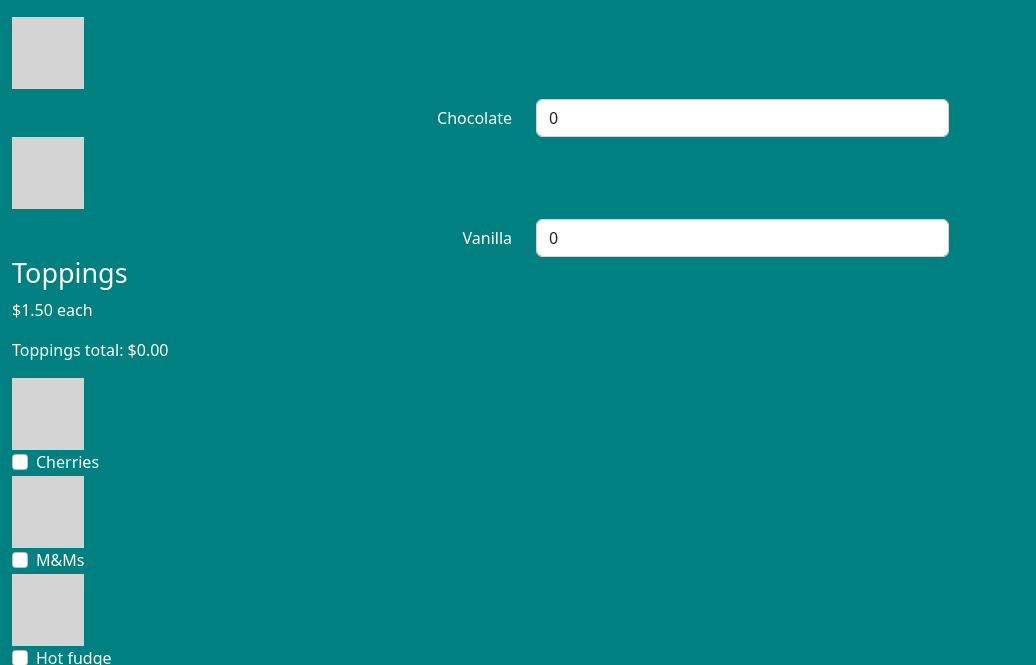
Test case: grand total › grand total updates if item is removed
Click the checkbox labelled "Cherries": (20, 462) [12,454,28,470]
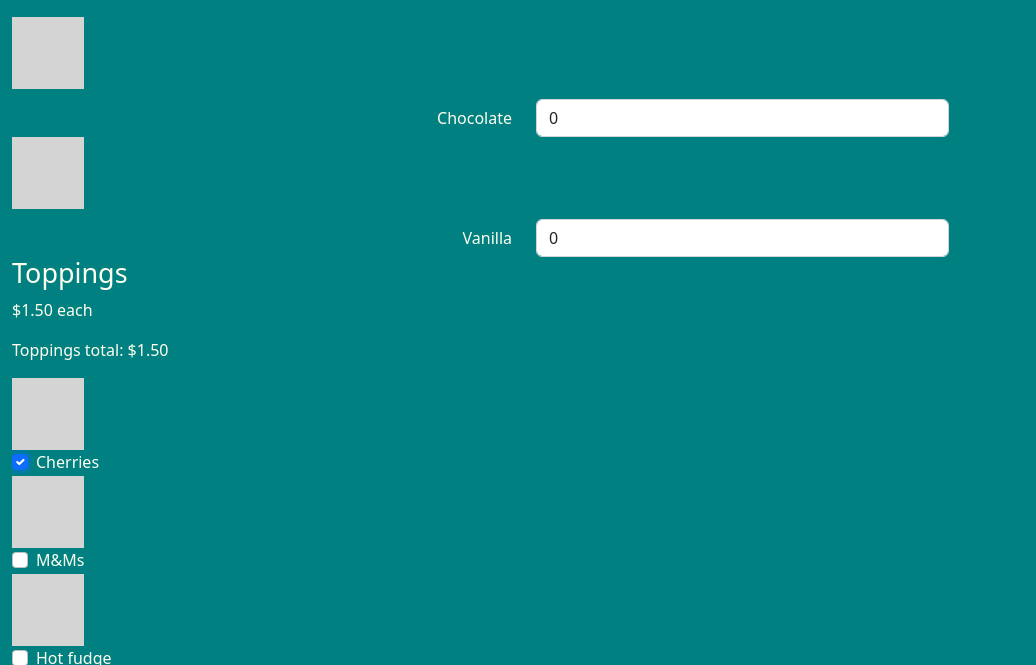
Replace the text in the number field labelled "Vanilla" with "2": (742, 238) [536,219,949,257]
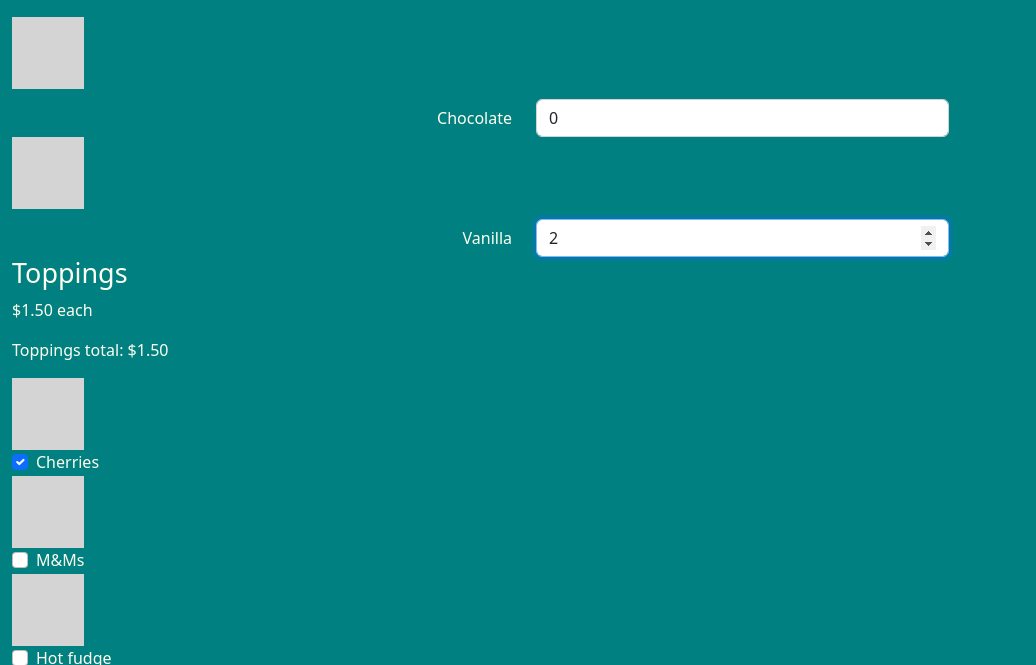
Replace the text in the number field labelled "Vanilla" with "1": (742, 238) [536,219,949,257]
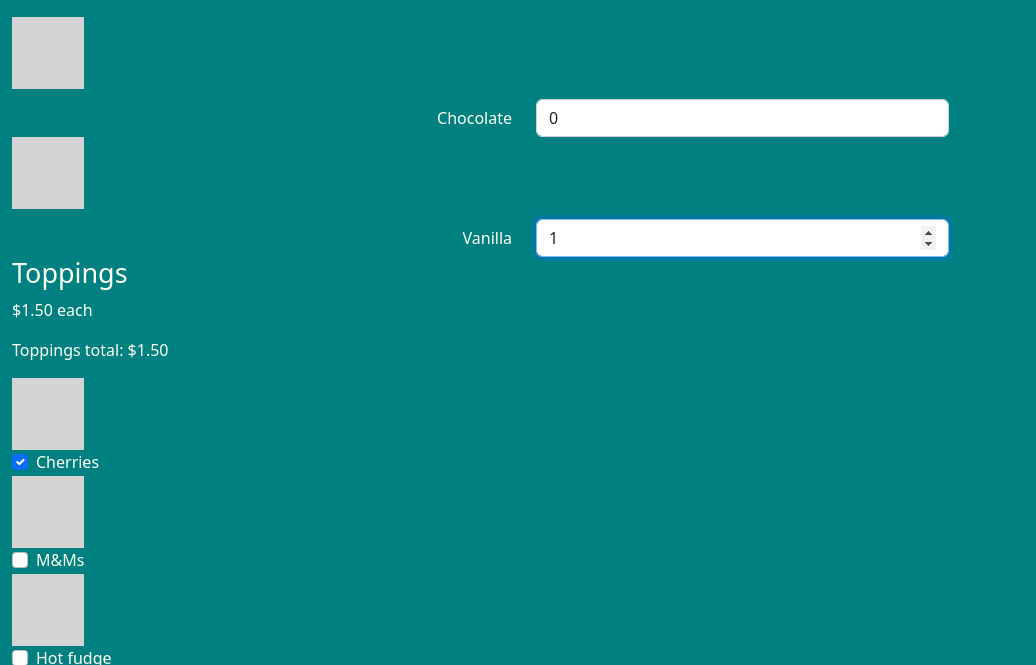
Click the checkbox labelled "Cherries": (20, 462) [12,454,28,470]
(page scrolled)
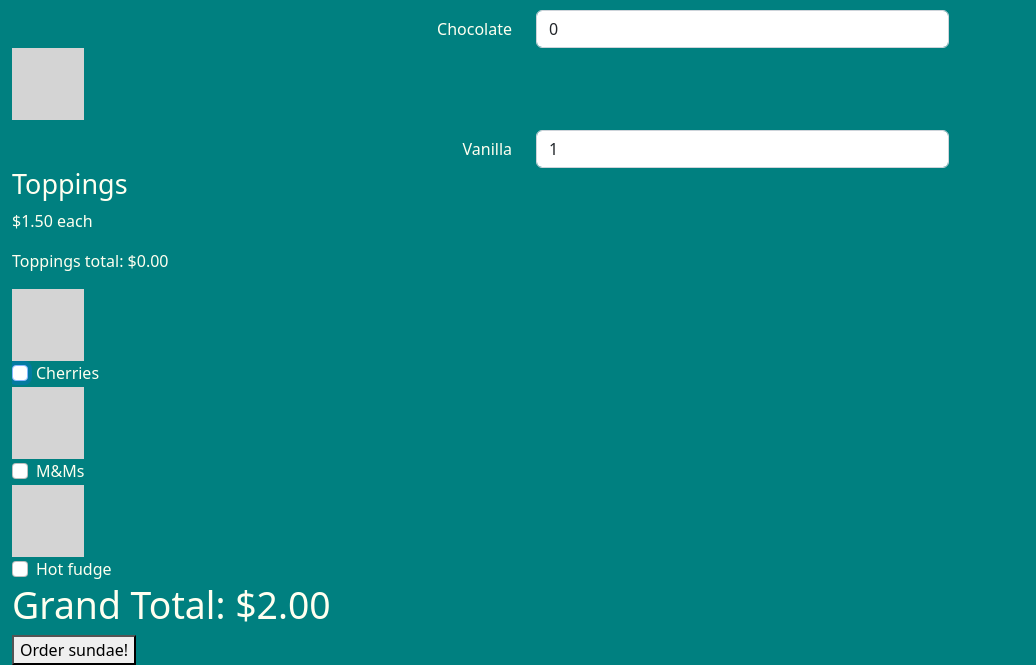
Check: the heading "Grand Total: $2.00" is shown, box [12,579,331,630]
